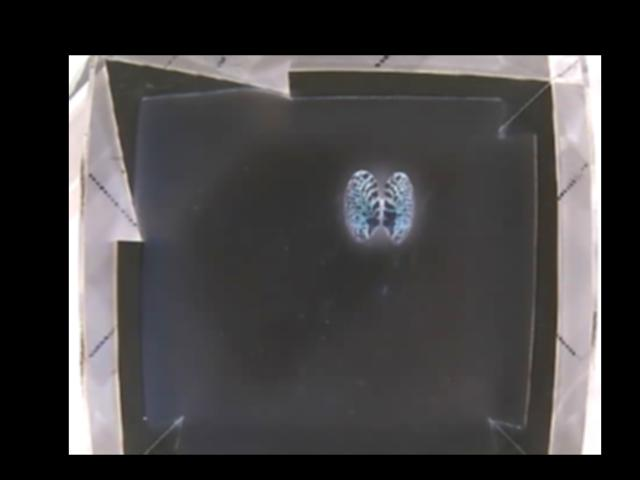Shell: (344, 169, 417, 246)
